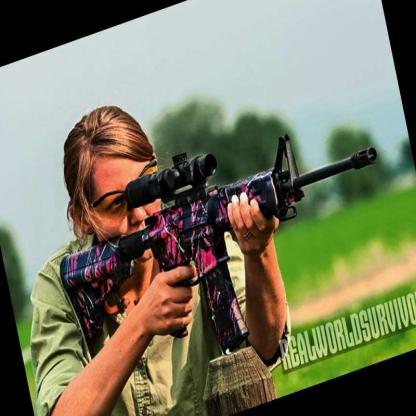rifle: (46, 105, 405, 395)
